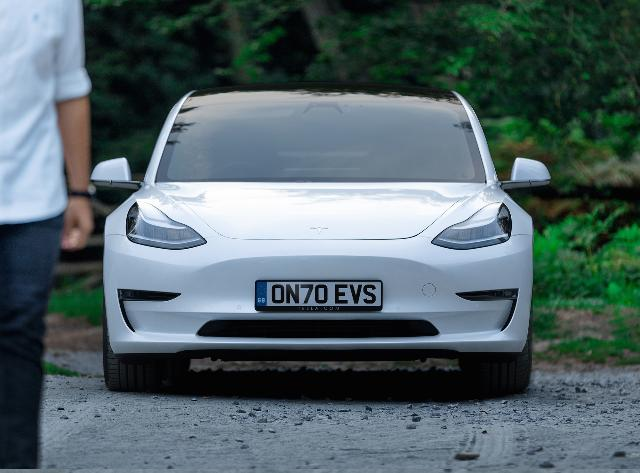tesla: (89, 82, 553, 390)
